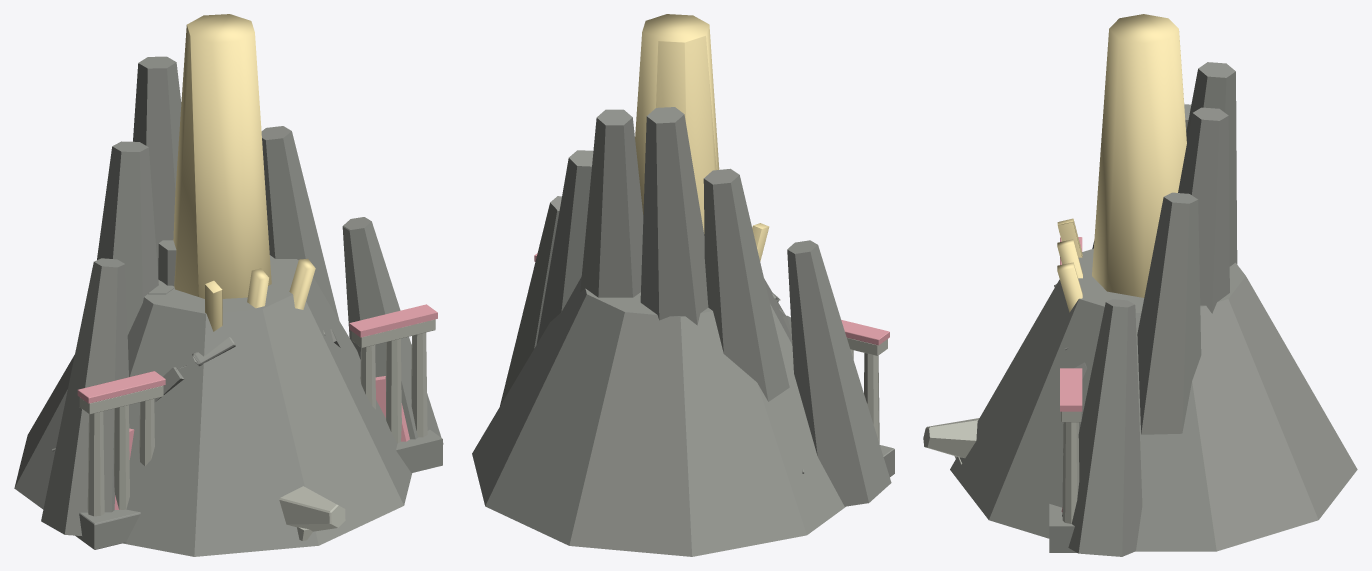
Rendered from AshenF15Kit.fbx.
3 renders of one model, left to right at view 1: azimuth 30°, elevation 25°; view 2: azimuth 150°, elevation 25°; view 3: azimuth 270°, elevation 25°, orthographic.
Parts seen in each view (by area): view 1: CinderholdVent__STONE, CinderholdVent__GLOW, CinderholdVent__TRIM, CinderholdVent__ALT, CalderaDragonCorpse__TRIM, ElderShoulderPauldron__STONE, ElderShieldRim__STONE; view 2: CinderholdVent__STONE, CinderholdVent__GLOW, CinderholdVent__TRIM, CinderholdVent__ALT; view 3: CinderholdVent__STONE, CinderholdVent__GLOW, CinderholdVent__TRIM, CalderaDragonCorpse__TRIM, CinderholdVent__ALT.
Part boxes in pixels (<box>): CinderholdVent__STONE: <box>14,56,443,556</box>; CinderholdVent__GLOW: <box>173,14,315,331</box>; CinderholdVent__TRIM: <box>79,319,435,516</box>; CinderholdVent__ALT: <box>77,304,437,509</box>; CalderaDragonCorpse__TRIM: <box>279,486,345,540</box>; ElderShoulderPauldron__STONE: <box>148,240,176,294</box>; ElderShieldRim__STONE: <box>154,329,340,402</box>; CinderholdVent__STONE: <box>472,107,894,556</box>; CinderholdVent__GLOW: <box>635,14,769,261</box>; CinderholdVent__TRIM: <box>847,338,887,443</box>; CinderholdVent__ALT: <box>534,253,889,345</box>; CinderholdVent__STONE: <box>950,62,1357,556</box>; CinderholdVent__GLOW: <box>1057,14,1186,312</box>; CinderholdVent__TRIM: <box>1061,411,1081,523</box>; CalderaDragonCorpse__TRIM: <box>923,418,979,464</box>; CinderholdVent__ALT: <box>1060,237,1082,512</box>.
Bounding box in the file's own units: 88.96 × 102 × 89.47.
